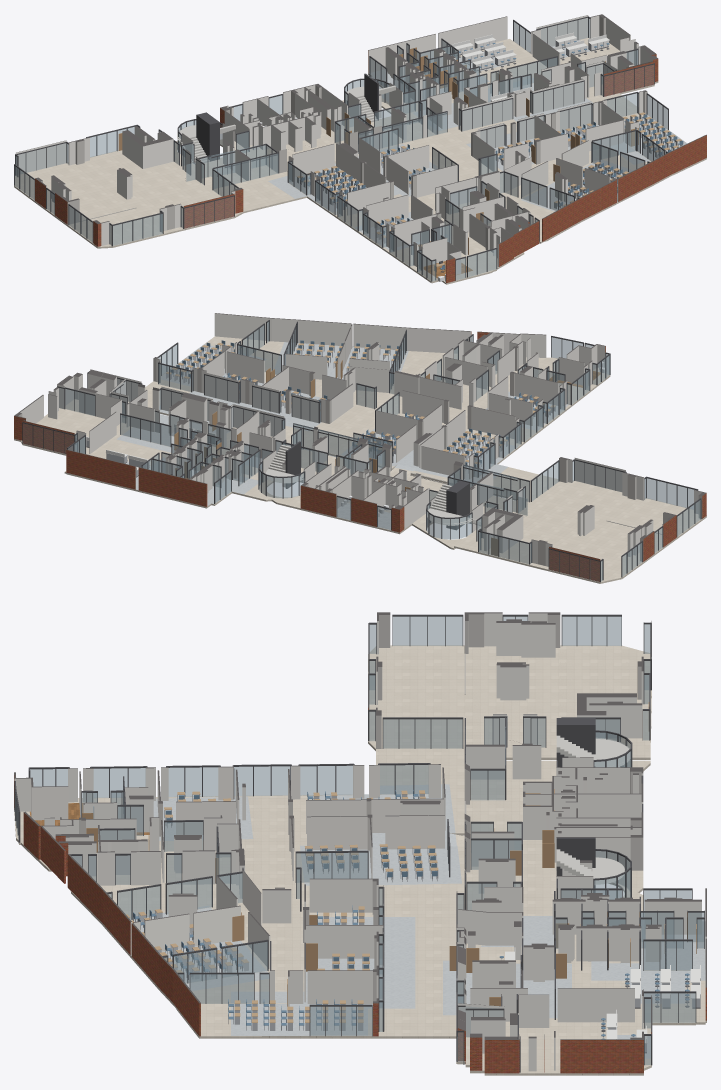
Rendered from floor-2.glb.
3 renders of one model, top to bottom at view 1: azimuth 30°, elevation 25°; view 2: azimuth 150°, elevation 25°; view 3: azimuth 270°, elevation 25°, orthographic. The views are drawn at different scales.
Parts seen in each view (by area): view 1: P2_Walls, P2_Glass, P2_Floor_Slab, P2_Glass_Mullions, P2_Floor_Zones, P2_Glass_Frames_Top, P2_Columns, P2_Furniture_3_3, P2_Doors, P2_Stair_A_West, P2_Furniture_3_2, P2_Furniture_1_2 (+2 smaller); view 2: P2_Walls, P2_Glass, P2_Floor_Slab, P2_Glass_Mullions, P2_Floor_Zones, P2_Glass_Frames_Top, P2_Columns, P2_Stair_A_West, P2_Doors, P2_Stair_A_East, P2_Furniture_3_2, P2_Furniture_1_2 (+4 smaller); view 3: P2_Walls, P2_Floor_Slab, P2_Glass, P2_Floor_Zones, P2_Glass_Mullions, P2_Glass_Frames_Top, P2_Columns, P2_Doors, P2_Furniture_2_2, P2_Furniture_3_2, P2_Stair_A_West, P2_Furniture_3_3 (+3 smaller).
Boxes of the visible parts, bbox=[...] form: P2_Walls: bbox=[15, 15, 706, 282]; P2_Glass: bbox=[14, 18, 667, 281]; P2_Floor_Slab: bbox=[14, 37, 706, 284]; P2_Glass_Mullions: bbox=[14, 18, 668, 281]; P2_Floor_Zones: bbox=[268, 40, 686, 278]; P2_Glass_Frames_Top: bbox=[14, 16, 668, 261]; P2_Columns: bbox=[35, 14, 647, 250]; P2_Furniture_3_3: bbox=[451, 32, 609, 101]; P2_Doors: bbox=[118, 47, 638, 254]; P2_Stair_A_West: bbox=[177, 112, 235, 164]; P2_Furniture_3_2: bbox=[557, 112, 683, 169]; P2_Furniture_1_2: bbox=[297, 166, 365, 209]; P2_Walls: bbox=[17, 313, 702, 581]; P2_Glass: bbox=[23, 322, 700, 581]; P2_Floor_Slab: bbox=[14, 336, 706, 583]; P2_Glass_Mullions: bbox=[22, 320, 701, 582]; P2_Floor_Zones: bbox=[116, 342, 600, 529]; P2_Glass_Frames_Top: bbox=[23, 320, 701, 561]; P2_Columns: bbox=[14, 346, 706, 565]; P2_Stair_A_West: bbox=[427, 480, 481, 530]; P2_Doors: bbox=[168, 359, 527, 556]; P2_Stair_A_East: bbox=[266, 441, 304, 488]; P2_Furniture_3_2: bbox=[166, 342, 260, 398]; P2_Furniture_1_2: bbox=[443, 428, 508, 472]; P2_Walls: bbox=[14, 612, 706, 1073]; P2_Floor_Slab: bbox=[14, 645, 706, 1075]; P2_Glass: bbox=[15, 616, 704, 1064]; P2_Floor_Zones: bbox=[29, 784, 705, 1058]; P2_Glass_Mullions: bbox=[14, 615, 704, 1072]; P2_Glass_Frames_Top: bbox=[14, 614, 704, 1041]; P2_Columns: bbox=[79, 612, 643, 1073]; P2_Doors: bbox=[82, 702, 696, 1006]; P2_Furniture_2_2: bbox=[305, 844, 438, 924]; P2_Furniture_3_2: bbox=[235, 953, 369, 1030]; P2_Stair_A_West: bbox=[556, 718, 630, 767]; P2_Furniture_3_3: bbox=[499, 947, 700, 1053].
Size of the model in its own units: 77.07 by 4.79 by 53.14.
Materials: 20 (5 with a texture image).
